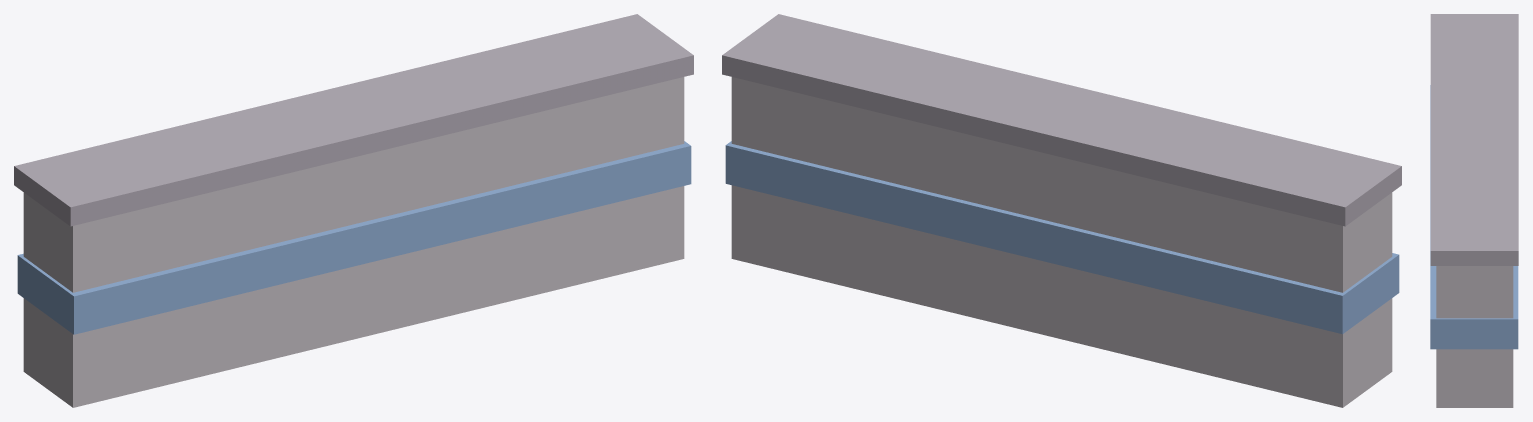
File: Deco_StoneWall_Band.fbx
The picture shows the model from 3 angles, left to right: view 1: azimuth 30°, elevation 25°; view 2: azimuth 150°, elevation 25°; view 3: azimuth 270°, elevation 25°; orthographic projection. The views are drawn at different scales.
Parts seen in each view (by area): view 1: Deco_StoneWall_Band_Main, Deco_StoneWall_Band_Cap, Deco_StoneWall_Band_Band; view 2: Deco_StoneWall_Band_Main, Deco_StoneWall_Band_Cap, Deco_StoneWall_Band_Band; view 3: Deco_StoneWall_Band_Cap, Deco_StoneWall_Band_Main, Deco_StoneWall_Band_Band.
Part boxes in pixels (bbox=[...]): Deco_StoneWall_Band_Main: bbox=[23, 77, 684, 407]; Deco_StoneWall_Band_Cap: bbox=[14, 14, 693, 226]; Deco_StoneWall_Band_Band: bbox=[17, 141, 691, 334]; Deco_StoneWall_Band_Main: bbox=[731, 77, 1392, 407]; Deco_StoneWall_Band_Cap: bbox=[722, 14, 1401, 226]; Deco_StoneWall_Band_Band: bbox=[725, 141, 1399, 334]; Deco_StoneWall_Band_Cap: bbox=[1430, 14, 1518, 265]; Deco_StoneWall_Band_Main: bbox=[1436, 266, 1513, 407]; Deco_StoneWall_Band_Band: bbox=[1430, 85, 1518, 349].
Bounding box in the file's own units: 1.02 × 0.32 × 0.161.
